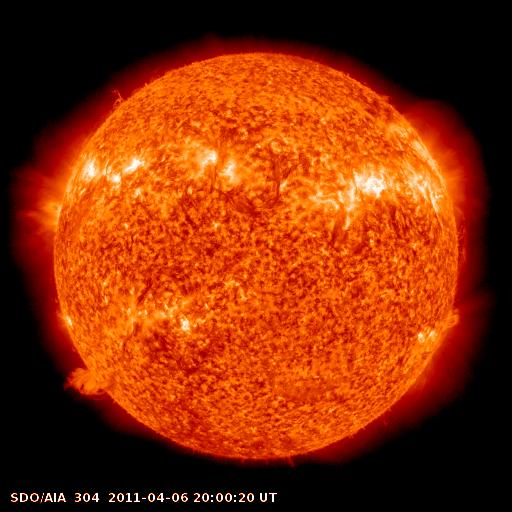prominence: (57, 358, 113, 408), (102, 76, 132, 120), (452, 222, 478, 272), (438, 301, 471, 336)
